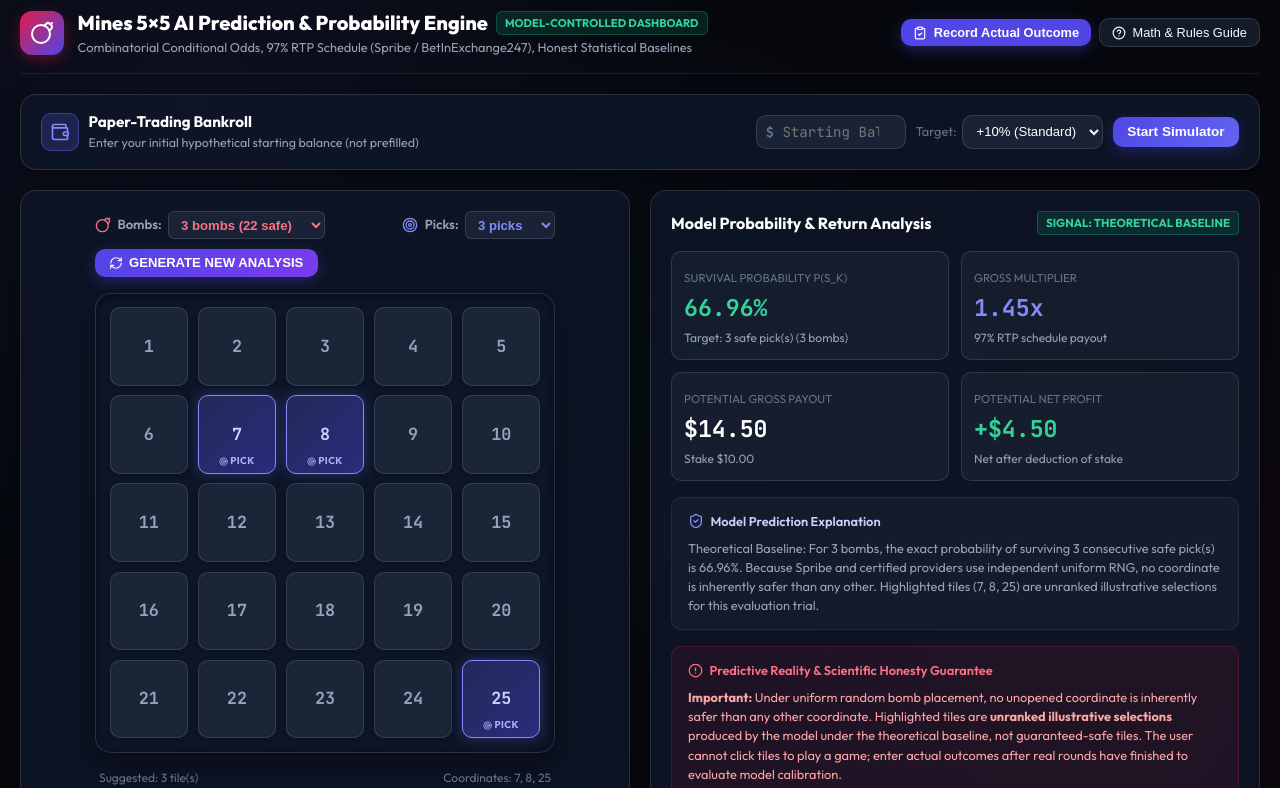
it: Mines 5x5 UI Workflow and Model-Driven Analysis › User can click tile 7 on grid to report bomb location and train model
The width and height of the screenshot is (1280, 788).
Click the cell "7 PICK" at (237,435), box top-left (198, 395), bottom-right (276, 474)
(page scrolled)
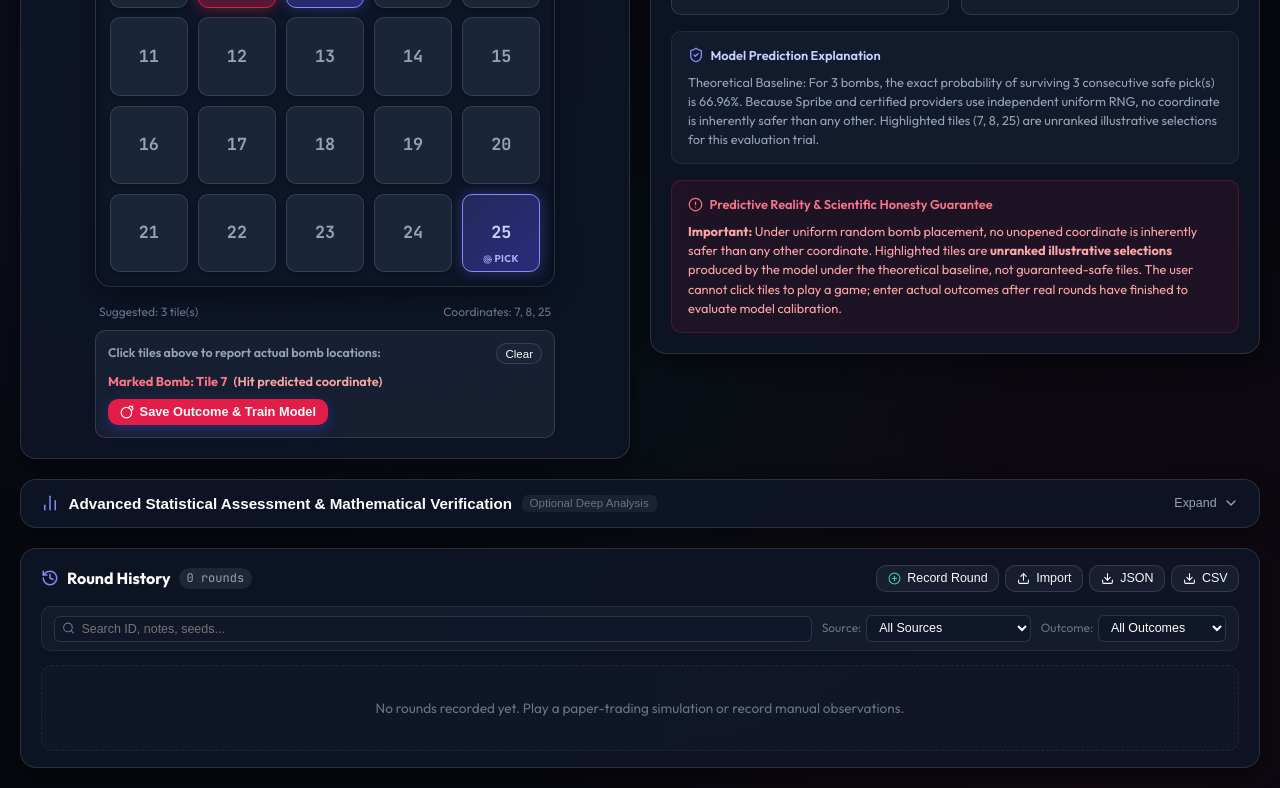
expect the text "Marked Bomb: Tile 7(Hit predicted coordinate)" is shown: met, box top-left (108, 372), bottom-right (382, 391)
// Click Save Outcome & Train Model
Click the button "Save Outcome & Train Model" at (218,412), box top-left (108, 399), bottom-right (328, 425)
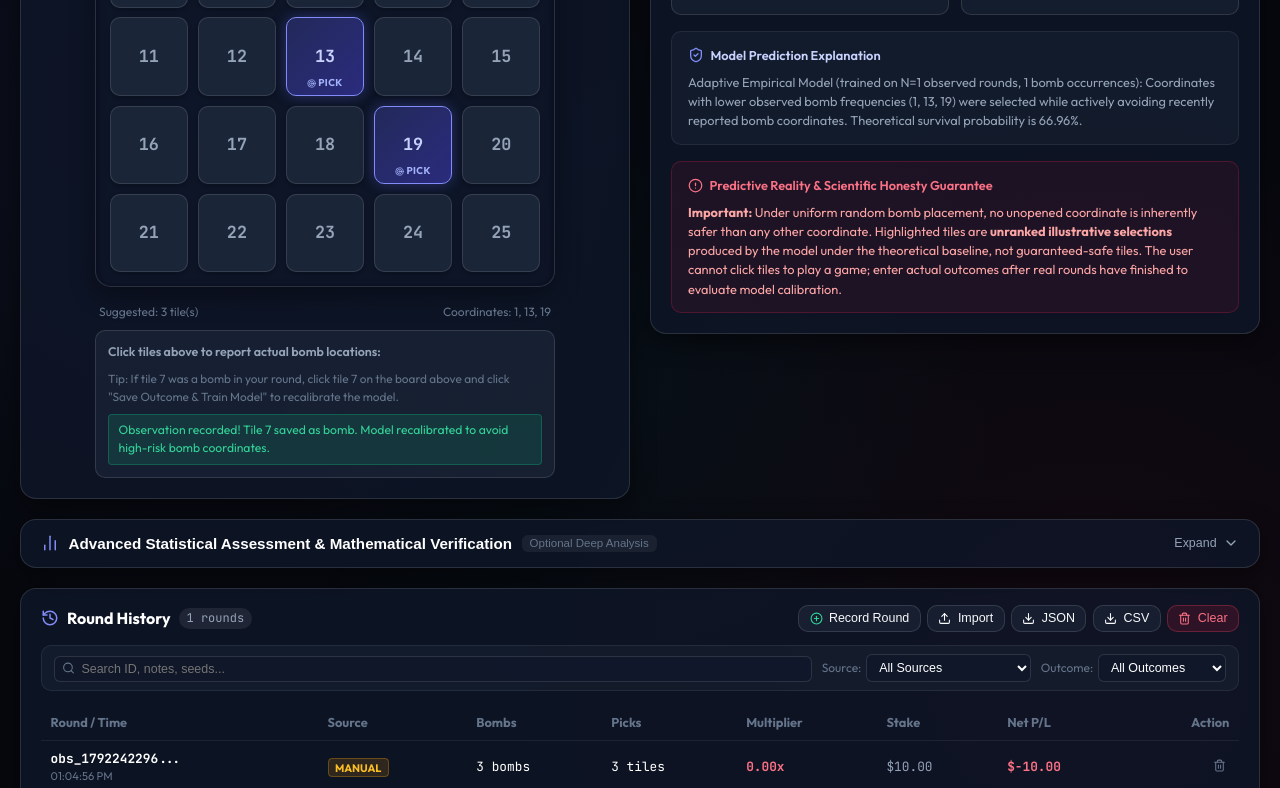
expect the text "Observation recorded!" is shown: met, box top-left (119, 422), bottom-right (508, 455)
